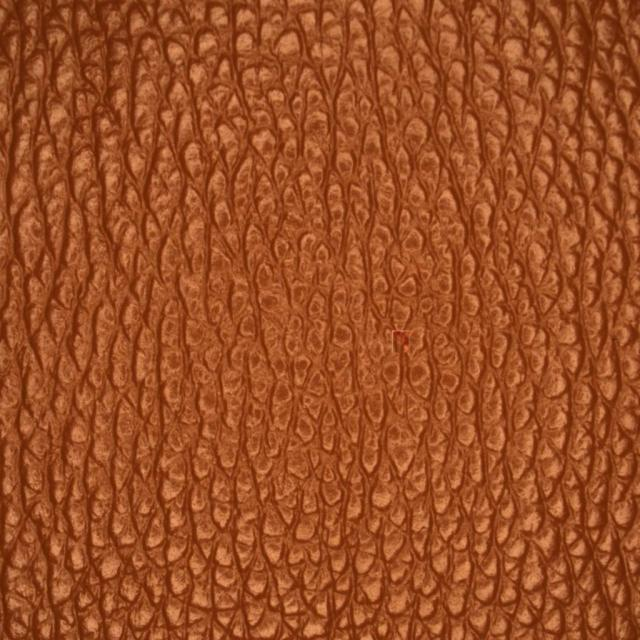Bacterial Injury: (307, 293, 497, 402)
